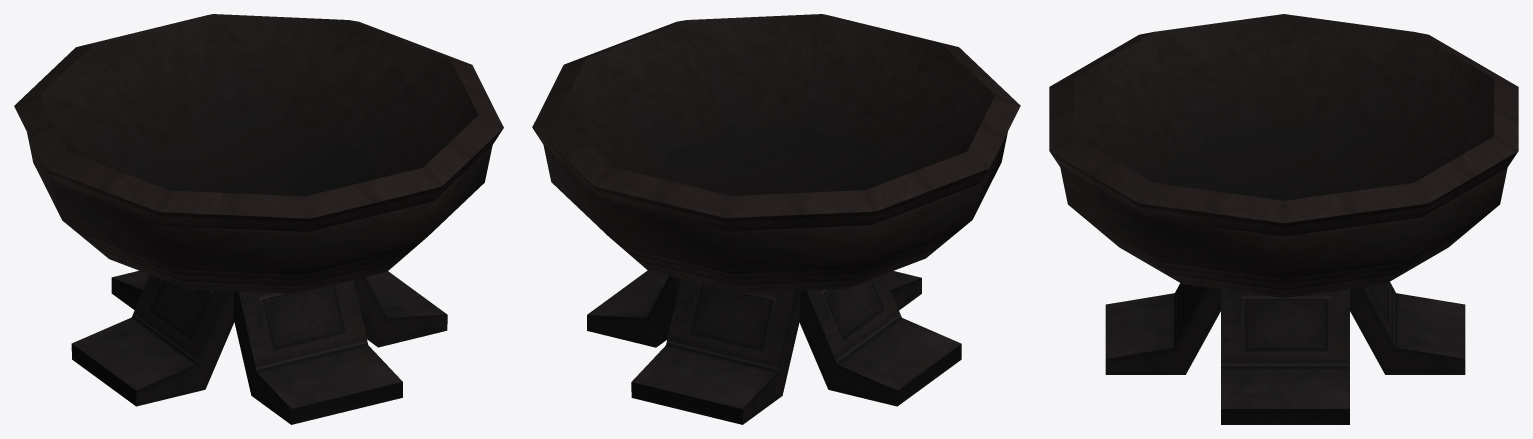
Rendered from Brazier.fbx.
The picture shows the model from 3 angles, left to right: view 1: azimuth 30°, elevation 25°; view 2: azimuth 150°, elevation 25°; view 3: azimuth 270°, elevation 25°; orthographic projection.
Parts seen in each view (by area): view 1: Brazier; view 2: Brazier; view 3: Brazier.
Part boxes in pixels (x1=…): Brazier: x1=14, y1=14, x2=503, y2=424; Brazier: x1=532, y1=14, x2=1020, y2=424; Brazier: x1=1049, y1=14, x2=1518, y2=424.
Size of the model in its own units: 65.62 by 35.38 by 62.41.
1 material, 1 textured.
